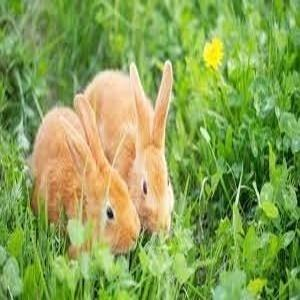rabbit: (35, 62, 175, 257)
